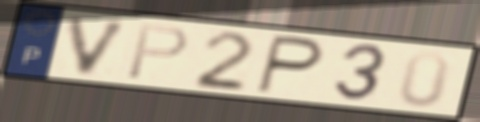0: (395, 49, 455, 110)
2: (193, 28, 255, 92)
3: (329, 42, 389, 105)
P: (252, 32, 327, 97), (123, 23, 192, 82)
V: (65, 14, 135, 78)
